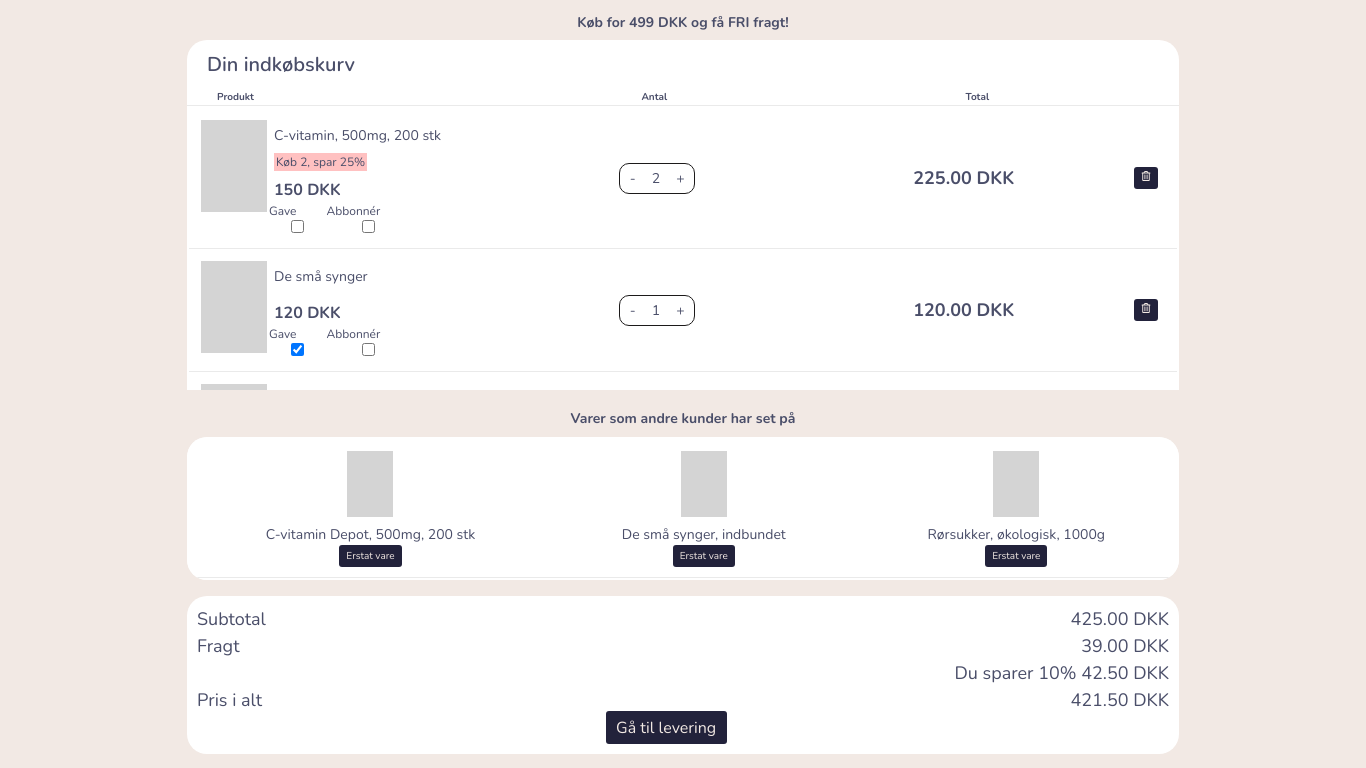
Test: ShoppingList › Let user increment quantity of item
Expected: the text named "Subtotal 425.00 DKK" is shown, [1070,606,1169,633]
Click the button named "forøg antal De små synger". click: (677, 310)
box: [660,296,694,325]
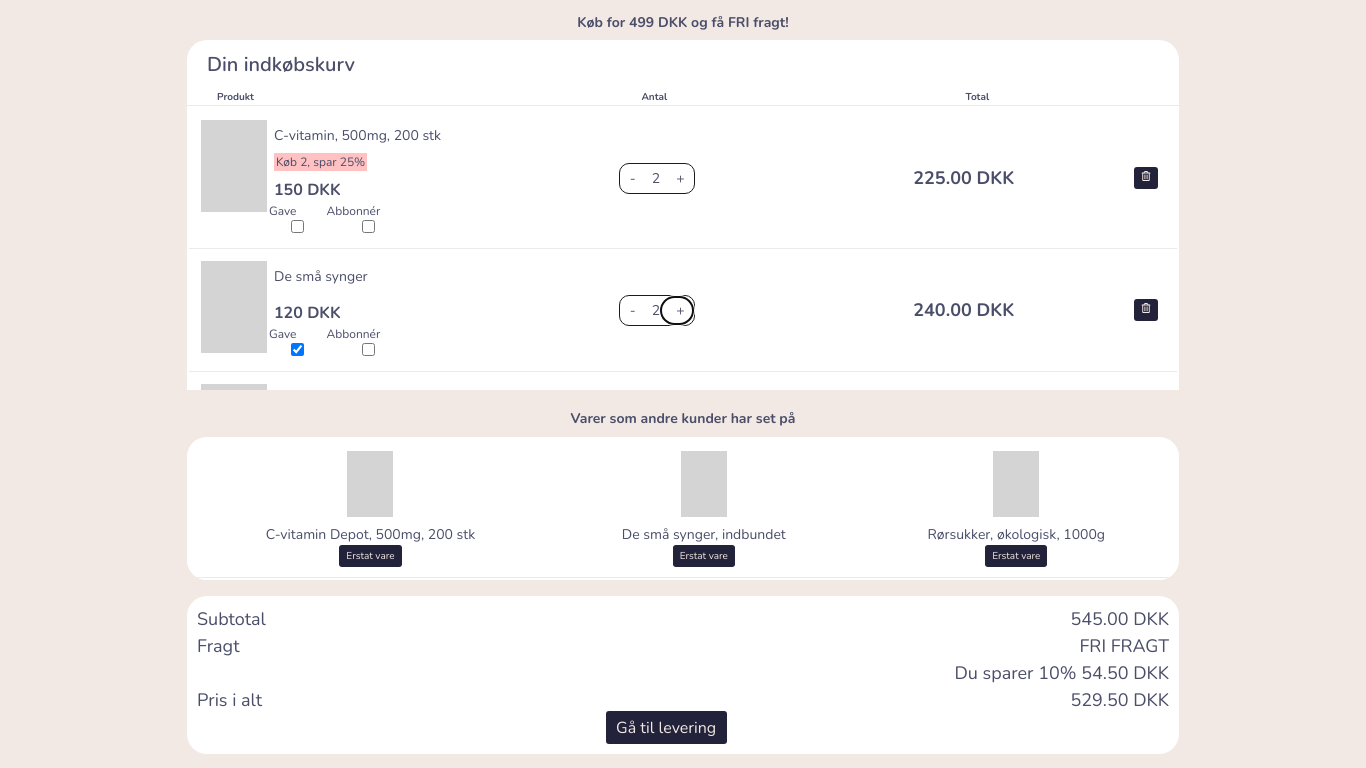
Expected: the text named "Subtotal 545.00 DKK" is shown, [1070,606,1169,633]
